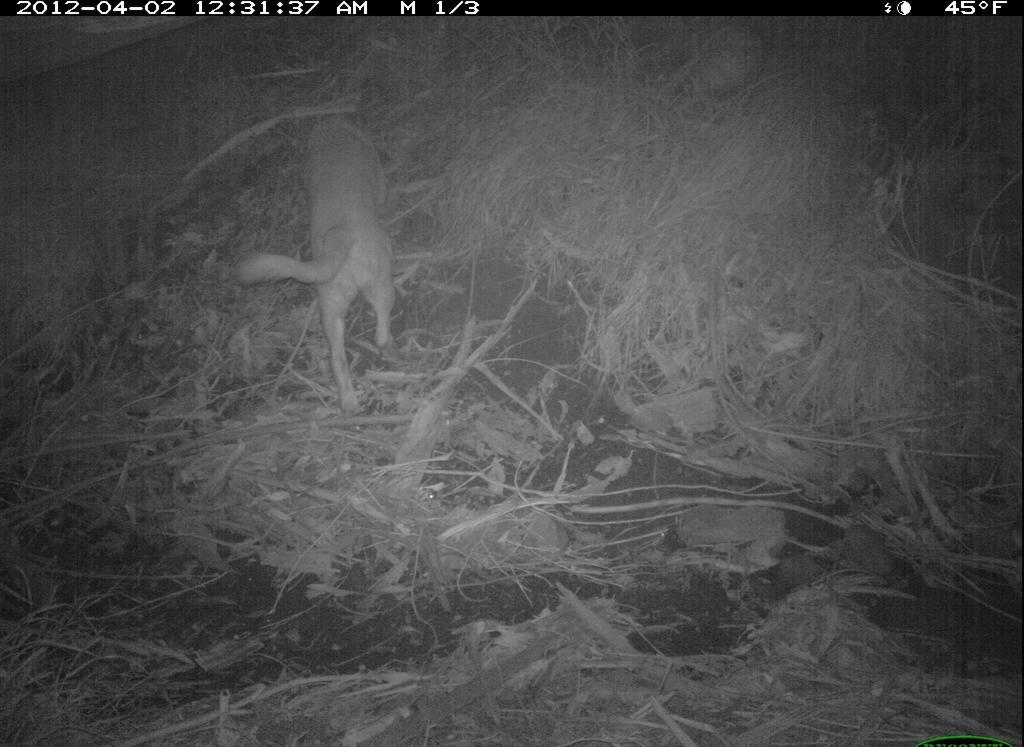dog: (239, 72, 410, 422)
